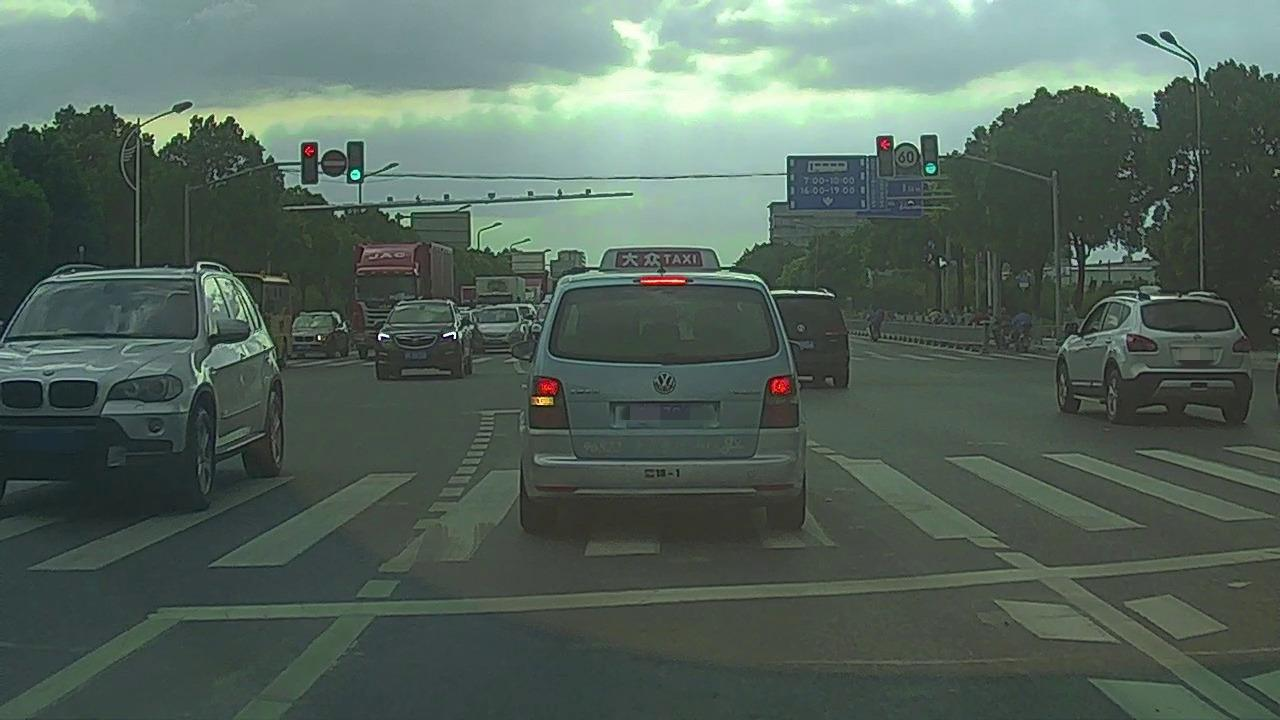traffic_light: (921, 135, 939, 177), (302, 141, 319, 183), (877, 135, 894, 177), (347, 142, 364, 183)
